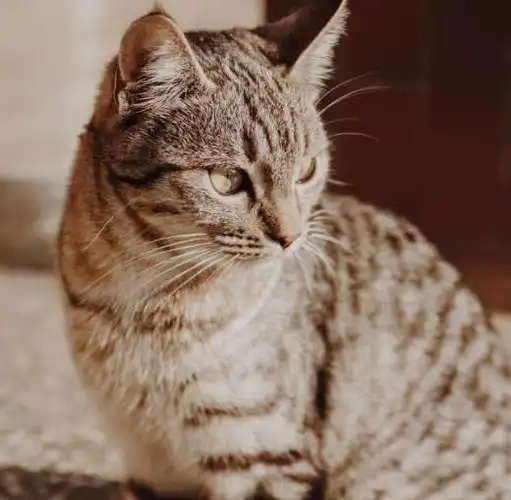狸花猫: (62, 4, 346, 262)
